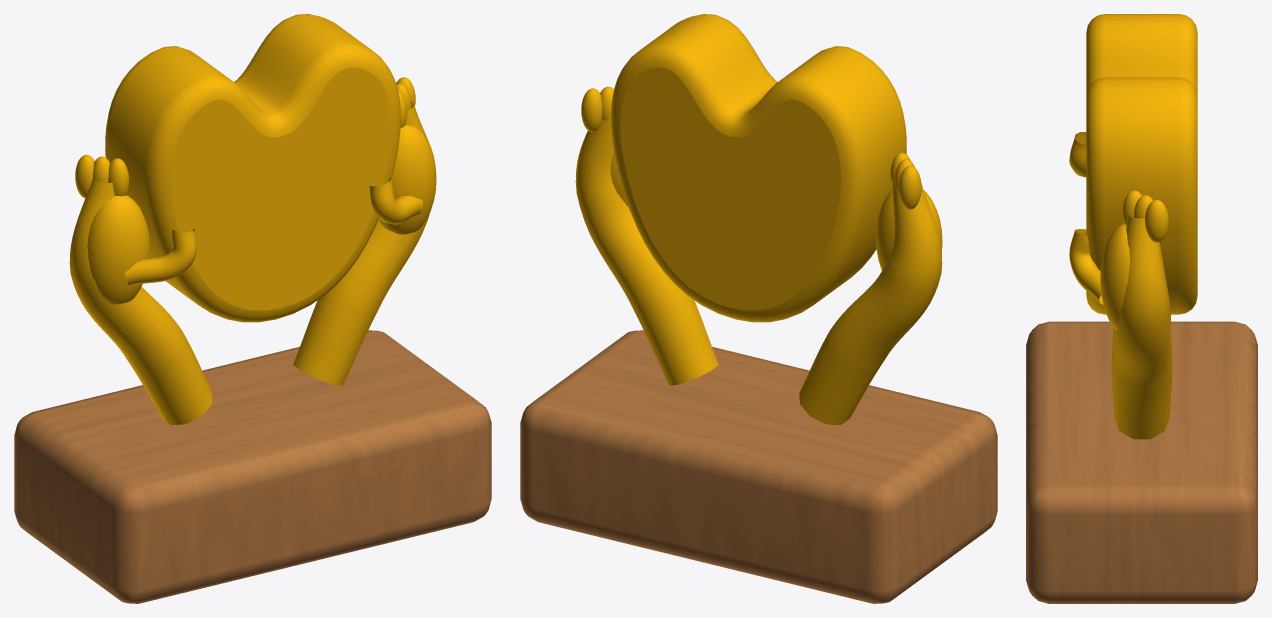
The model's file is display-helper.glb.
3 views of the same model, side by side, from view 1: azimuth 30°, elevation 25°; view 2: azimuth 150°, elevation 25°; view 3: azimuth 270°, elevation 25° (orthographic).
Parts seen in each view (by area): view 1: Wooden award plinth.010, Helper heart, Helping hand, Helping hand.001, Hand palm, Hand palm.001, Curled thumb, Curled thumb.001, Round fingertip; view 2: Wooden award plinth.010, Helper heart, Helping hand, Helping hand.001, Hand palm, Round fingertip.002, Round fingertip.005; view 3: Wooden award plinth.010, Helper heart, Helping hand.001, Hand palm.001, Curled thumb.001, Round fingertip.005, Curled thumb, Round fingertip.003.
Part boxes in pixels (left/top/right/bottom): Wooden award plinth.010: left=14, top=330, right=491, bottom=603; Helper heart: left=105, top=14, right=400, bottom=322; Helping hand: left=69, top=178, right=212, bottom=425; Helping hand.001: left=293, top=101, right=435, bottom=385; Hand palm: left=87, top=195, right=150, bottom=304; Hand palm.001: left=378, top=125, right=436, bottom=234; Curled thumb: left=124, top=228, right=196, bottom=285; Curled thumb.001: left=369, top=177, right=423, bottom=224; Round fingertip: left=108, top=158, right=129, bottom=196; Wooden award plinth.010: left=520, top=330, right=997, bottom=603; Helper heart: left=611, top=14, right=906, bottom=322; Helping hand: left=799, top=178, right=942, bottom=425; Helping hand.001: left=575, top=112, right=718, bottom=385; Hand palm: left=876, top=190, right=942, bottom=270; Round fingertip.002: left=898, top=165, right=921, bottom=209; Round fingertip.005: left=581, top=88, right=601, bottom=132; Wooden award plinth.010: left=1026, top=321, right=1257, bottom=603; Helper heart: left=1086, top=14, right=1197, bottom=314; Helping hand.001: left=1111, top=214, right=1172, bottom=439; Hand palm.001: left=1100, top=223, right=1129, bottom=329; Curled thumb.001: left=1069, top=229, right=1103, bottom=304; Round fingertip.005: left=1145, top=199, right=1168, bottom=242; Curled thumb: left=1069, top=132, right=1086, bottom=177; Round fingertip.003: left=1122, top=190, right=1142, bottom=225.
Bounding box in the file's own units: 0.46 × 0.562 × 0.25.
Materials: 2 (1 with a texture image).
